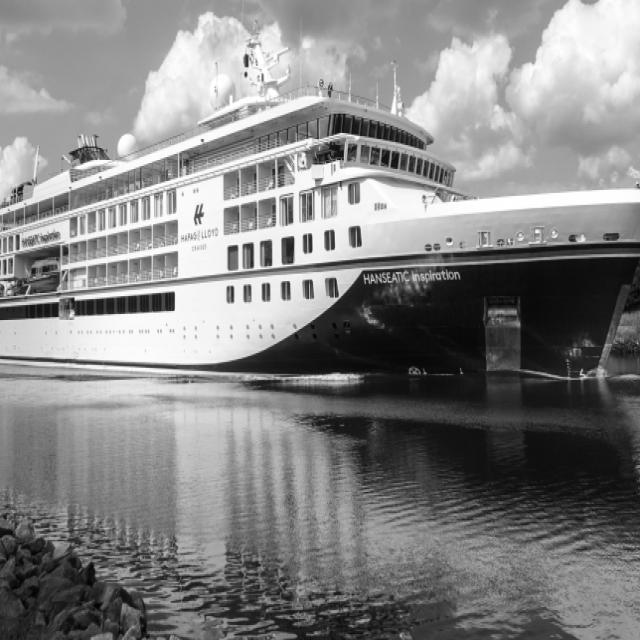cruises: (1, 6, 640, 386)
